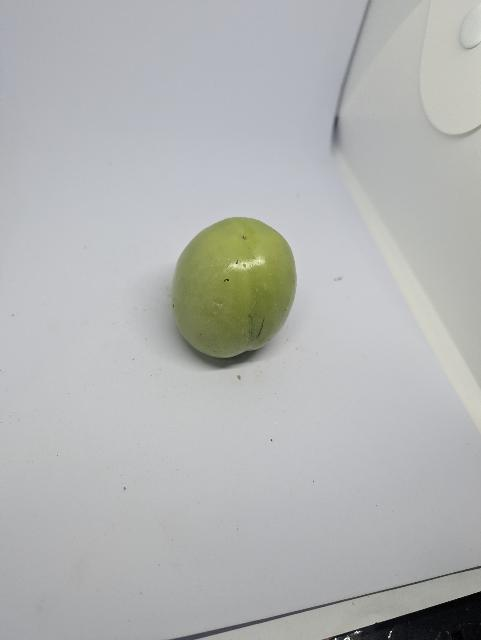green: (155, 206, 307, 369)
